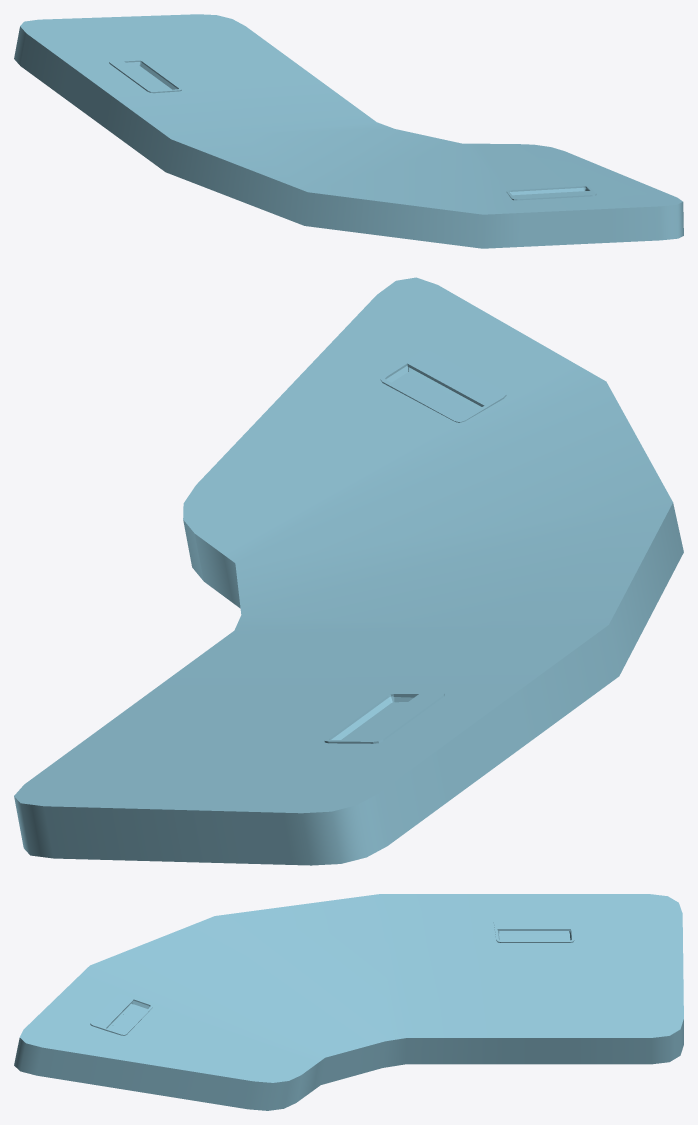
Rendered from ConsoleCabinetSideLargeAssyOpp.FBX.
The picture shows the model from 3 angles, top to bottom: view 1: azimuth 30°, elevation 25°; view 2: azimuth 150°, elevation 25°; view 3: azimuth 270°, elevation 25°; orthographic projection. The views are drawn at different scales.
Parts seen in each view (by area): view 1: ConsoleCabinetSideLarge001, ConsoleCabinetKnob004, ConsoleCabinetKnob005; view 2: ConsoleCabinetSideLarge001, ConsoleCabinetKnob005, ConsoleCabinetKnob004; view 3: ConsoleCabinetSideLarge001, ConsoleCabinetKnob004, ConsoleCabinetKnob005.
Boxes of the visible parts, x1,y1,x2,y2 form: ConsoleCabinetSideLarge001: (14,14,683,248); ConsoleCabinetKnob004: (109,59,181,93); ConsoleCabinetKnob005: (506,185,596,200); ConsoleCabinetSideLarge001: (14,277,683,865); ConsoleCabinetKnob005: (380,350,506,422); ConsoleCabinetKnob004: (324,692,444,743); ConsoleCabinetSideLarge001: (14,894,683,1110); ConsoleCabinetKnob004: (493,919,574,942); ConsoleCabinetKnob005: (90,994,153,1035).
Bounding box in the file's own units: 0.5455 × 0.1233 × 1.02.
